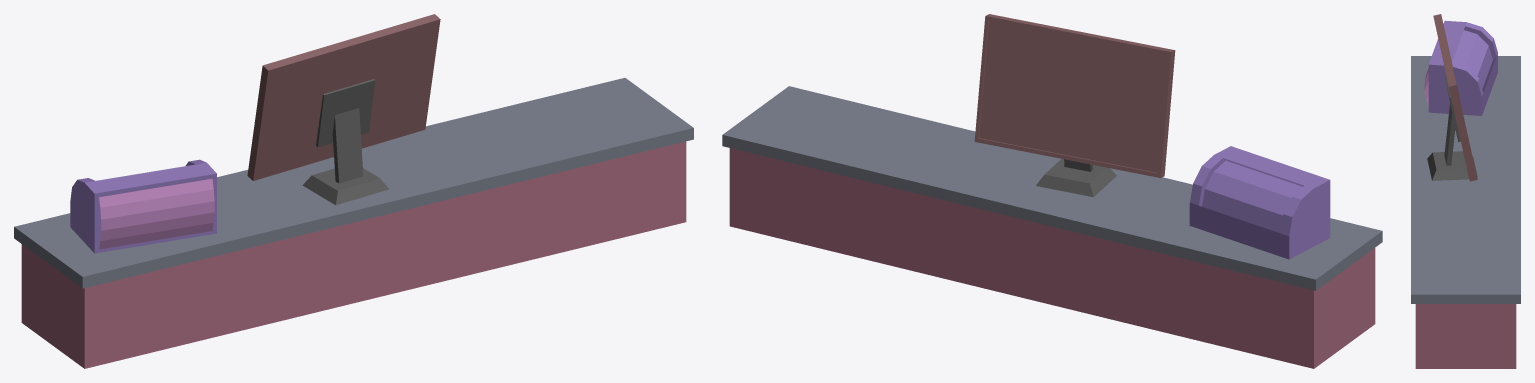
File: cash.glb
3 renders of one model, left to right at view 1: azimuth 30°, elevation 25°; view 2: azimuth 150°, elevation 25°; view 3: azimuth 270°, elevation 25°, orthographic. The views are drawn at different scales.
Parts seen in each view (by area): view 1: Cube.001; view 2: Cube.001; view 3: Cube.001.
Part boxes in pixels (x1=…): Cube.001: x1=14, y1=14, x2=693, y2=368; Cube.001: x1=722, y1=14, x2=1382, y2=368; Cube.001: x1=1411, y1=14, x2=1520, y2=368.
Size of the model in its own units: 21.34 by 8.16 by 4.15.
